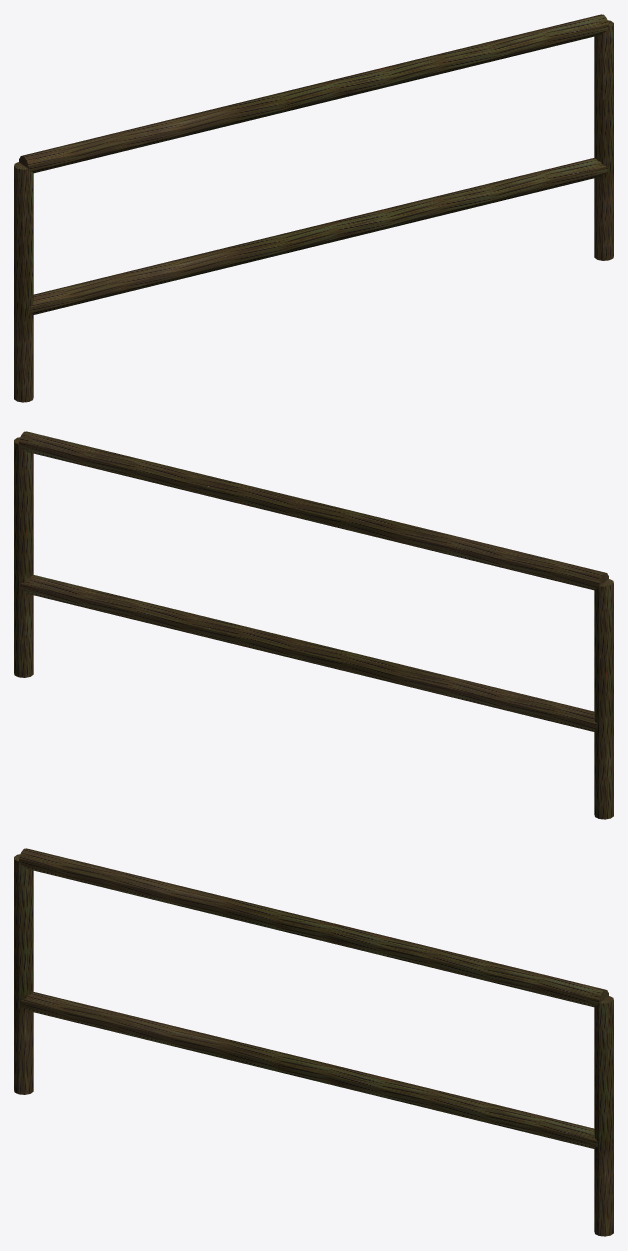
The model's file is Rail.fbx.
3 renders of one model, top to bottom at view 1: azimuth 30°, elevation 25°; view 2: azimuth 150°, elevation 25°; view 3: azimuth 330°, elevation 25°, orthographic.
Visible parts, largest first — view 1: Rail.001; view 2: Rail.001; view 3: Rail.001.
Part boxes in pixels (x1,y1,x2,y2): Rail.001: (14, 14, 613, 402); Rail.001: (14, 431, 613, 819); Rail.001: (14, 848, 613, 1236).
Size of the model in its own units: 3.09 by 0.09 by 1.19.
